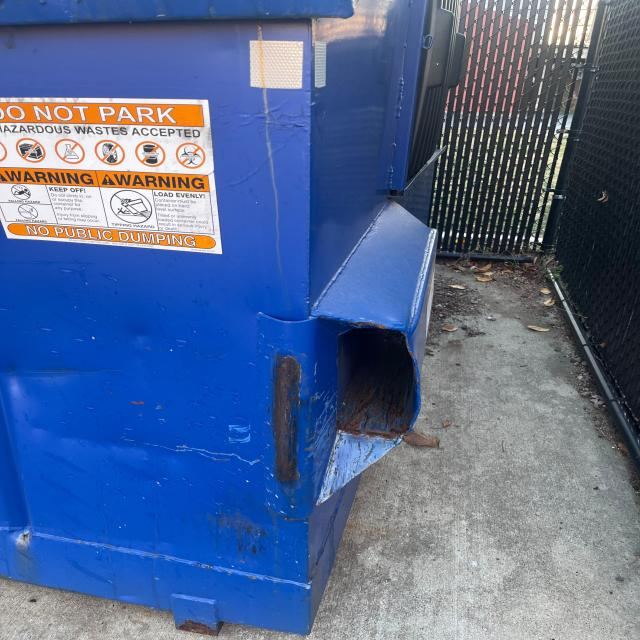Filiform Corrosion: (317, 330, 418, 508), (273, 357, 302, 484), (220, 513, 267, 555), (176, 620, 223, 636)
